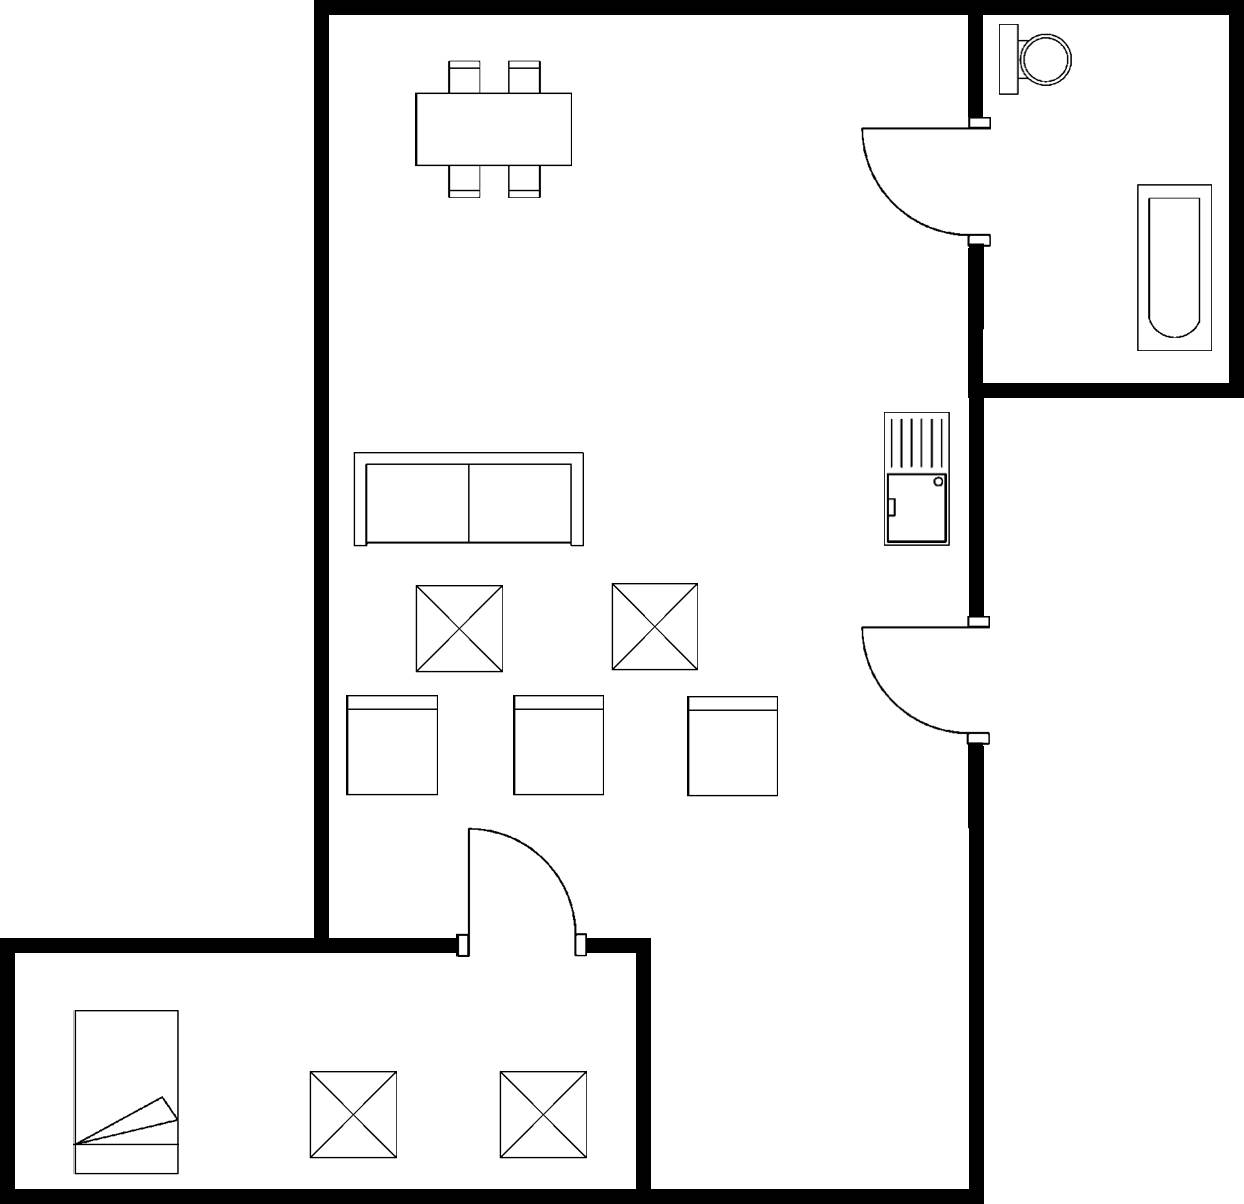bed: (68, 1002, 189, 1182)
coffee_table: (485, 1063, 599, 1166), (299, 1066, 404, 1169), (410, 578, 512, 681), (604, 575, 708, 678)
dining_table: (408, 52, 578, 205)
large_sofa: (343, 443, 595, 556)
sink: (872, 405, 956, 559), (991, 15, 1081, 107)
small_sofa: (341, 688, 448, 807), (503, 689, 610, 807), (682, 686, 790, 802)
tub: (1128, 173, 1221, 361)
